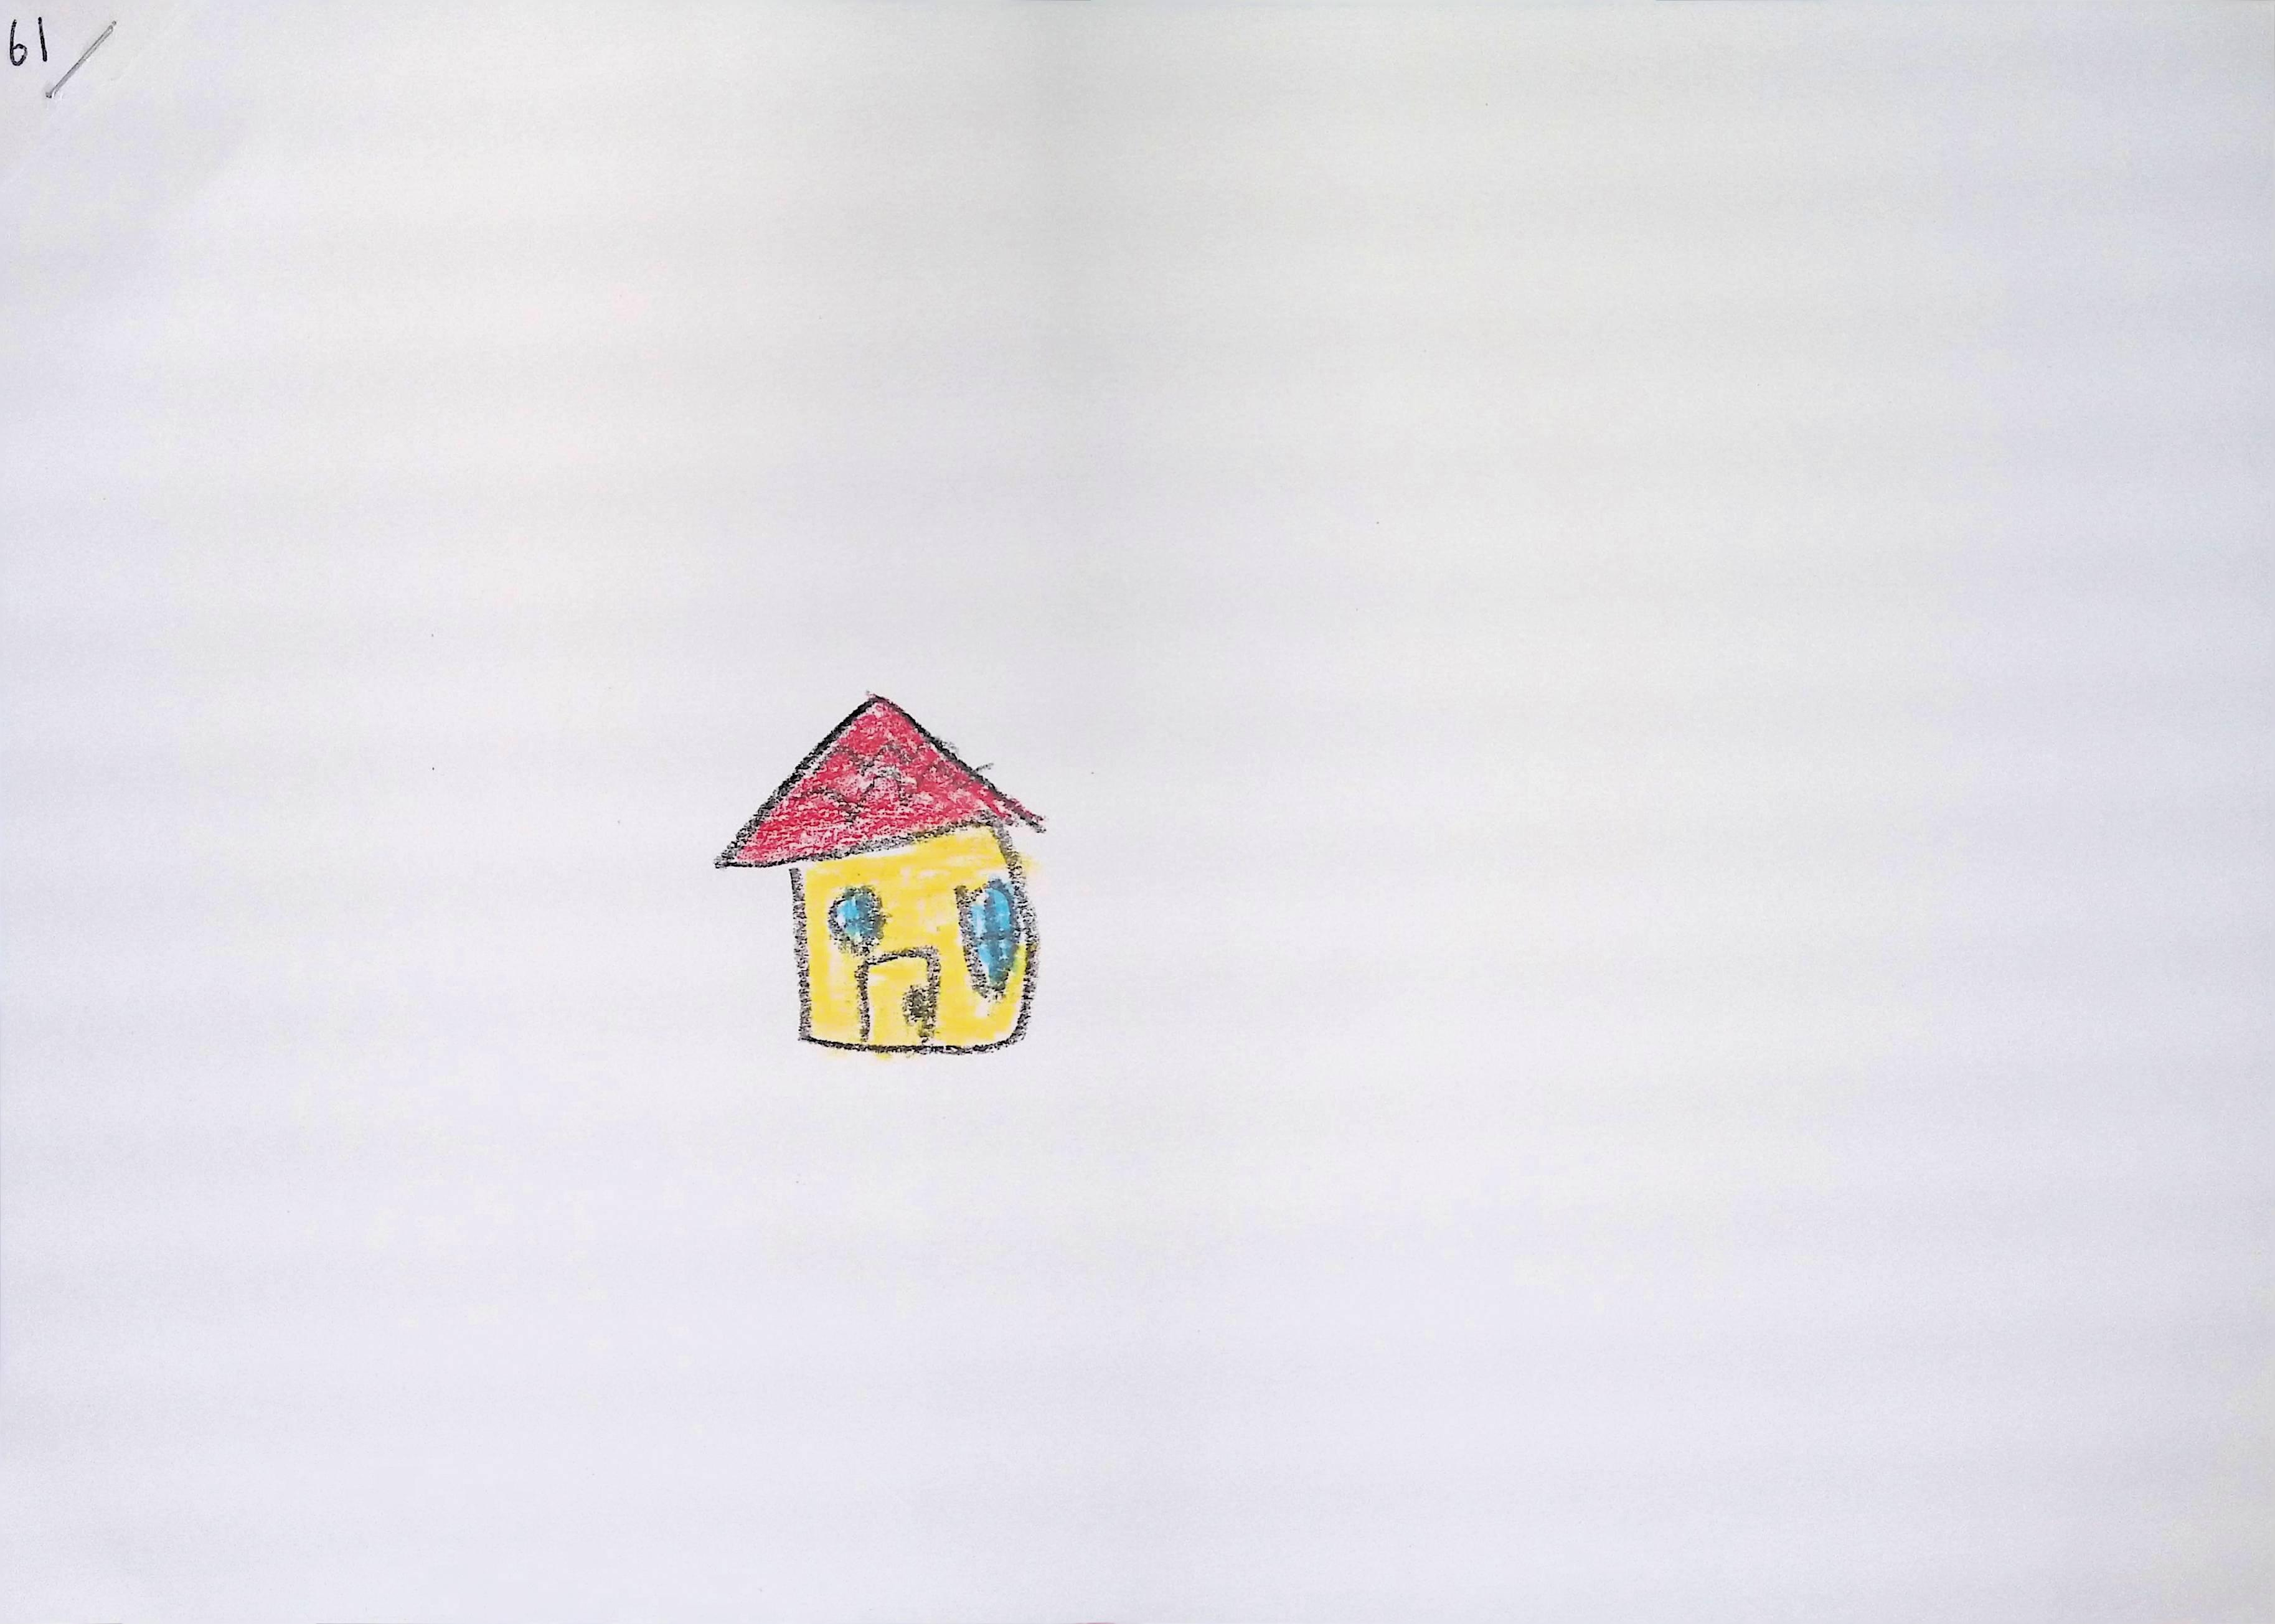door: (860, 942, 944, 1055)
house: (716, 694, 1043, 1051)
roof: (717, 692, 1043, 872)
wall: (793, 821, 1037, 1065)
window: (955, 877, 1021, 1000), (826, 886, 886, 954)
